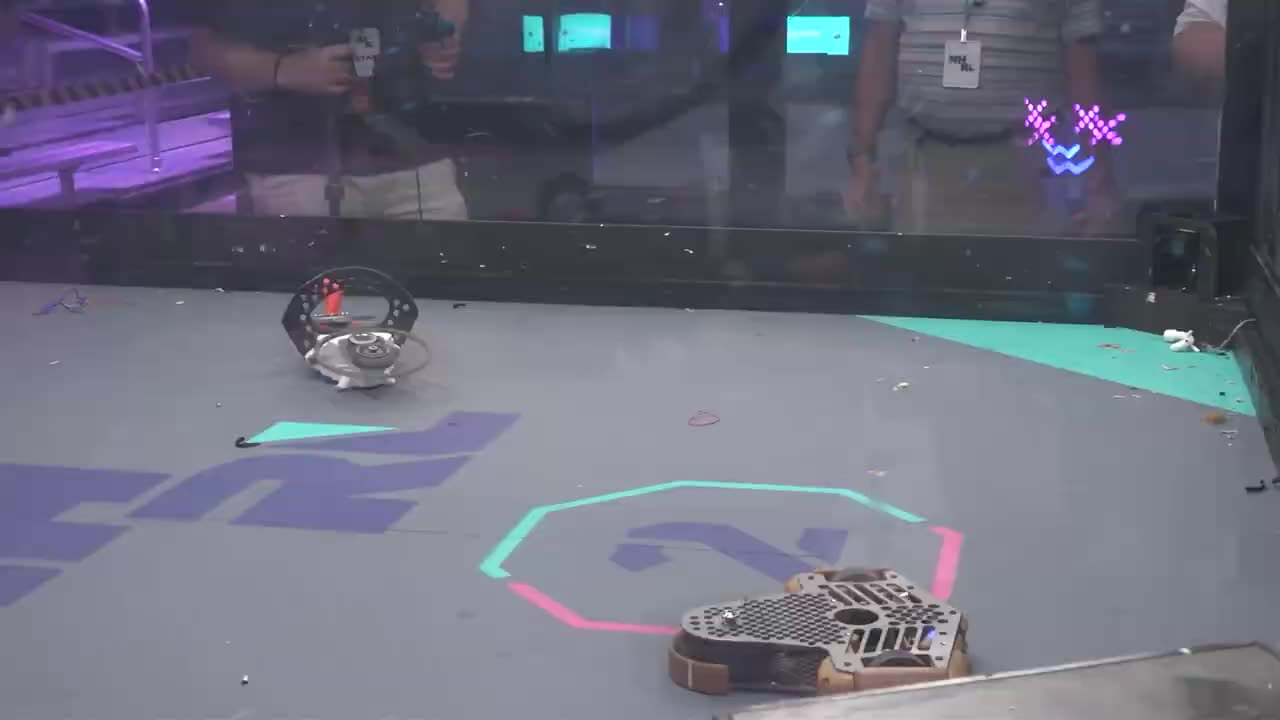combatbot: (671, 566, 973, 696), (282, 269, 431, 395)
debris: (32, 287, 90, 318)
housebot: (716, 643, 1280, 720)
